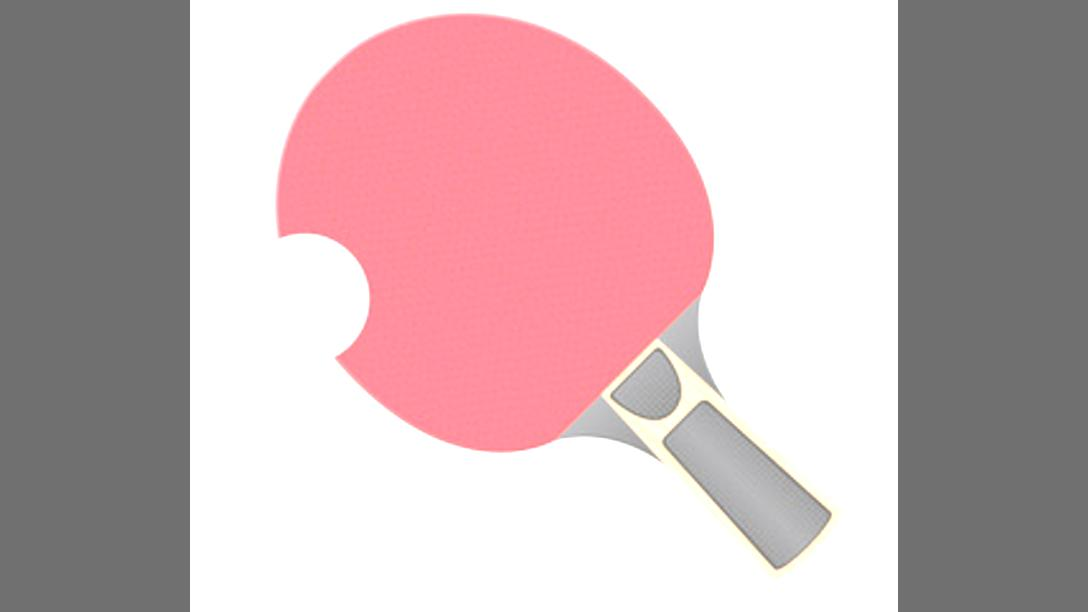Table-Tennis-Ball: (241, 232, 367, 362)
